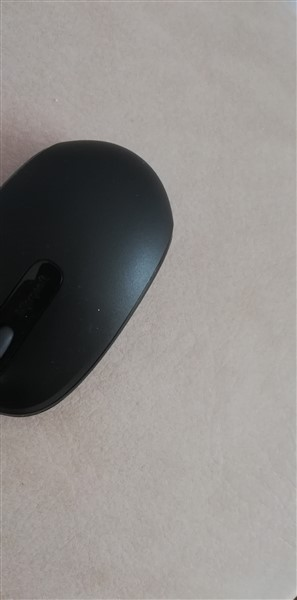mouse: (1, 133, 184, 426)
